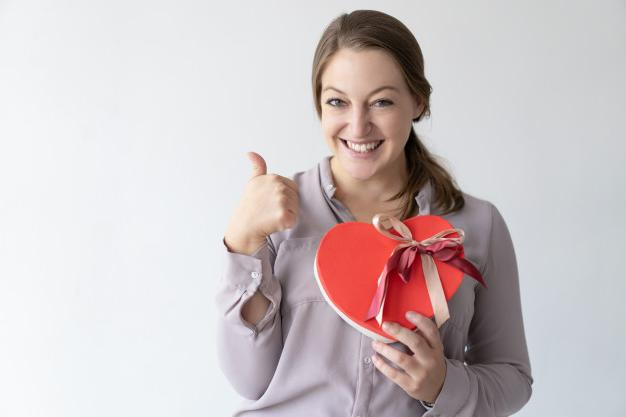thumbsup: (246, 151, 301, 230)
